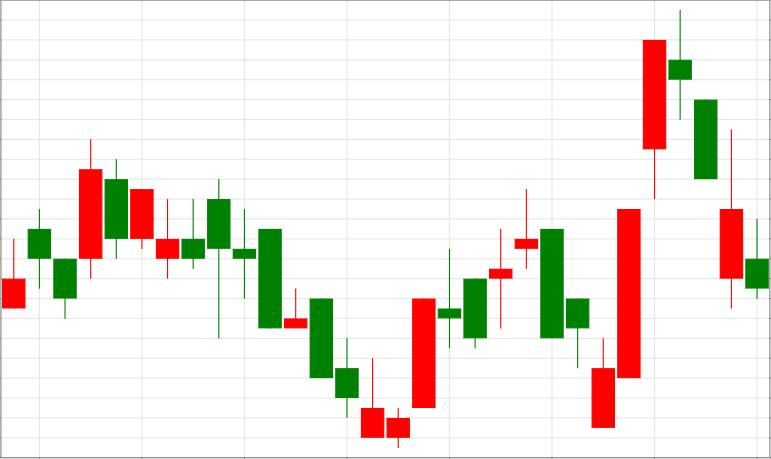inverse_hammer_rise: (208, 178, 384, 438)
